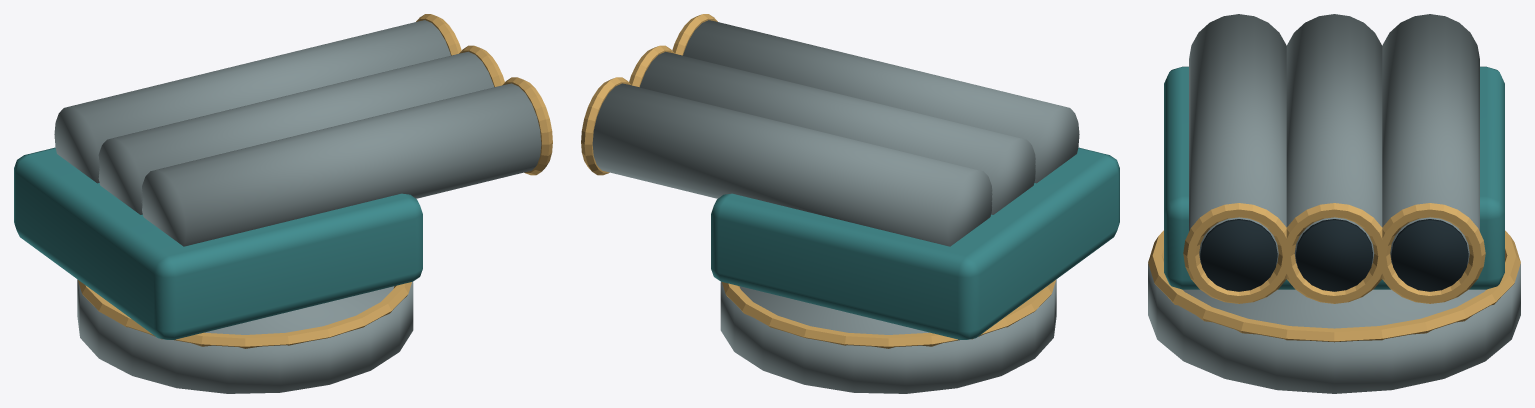
The model's file is module-torpedo.glb.
The picture shows the model from 3 angles, left to right: view 1: azimuth 30°, elevation 25°; view 2: azimuth 150°, elevation 25°; view 3: azimuth 270°, elevation 25°; orthographic projection. The views are drawn at different scales.
Parts seen in each view (by area): view 1: module-torpedo / Iron | weathered steel, module-torpedo / Paint | North Sea petrol, module-torpedo / Brass | machined champagne; view 2: module-torpedo / Iron | weathered steel, module-torpedo / Paint | North Sea petrol, module-torpedo / Brass | machined champagne; view 3: module-torpedo / Iron | weathered steel, module-torpedo / Brass | machined champagne, module-torpedo / Rubber | dark insets, module-torpedo / Paint | North Sea petrol.
Boxes of the visible parts, x1,y1,x2,y2 form: module-torpedo / Iron | weathered steel: (54, 20, 541, 393); module-torpedo / Paint | North Sea petrol: (14, 147, 422, 339); module-torpedo / Brass | machined champagne: (78, 14, 552, 348); module-torpedo / Iron | weathered steel: (592, 20, 1079, 393); module-torpedo / Paint | North Sea petrol: (711, 147, 1119, 339); module-torpedo / Brass | machined champagne: (581, 14, 1055, 348); module-torpedo / Iron | weathered steel: (1148, 14, 1520, 393); module-torpedo / Brass | machined champagne: (1148, 203, 1520, 342); module-torpedo / Rubber | dark insets: (1200, 219, 1468, 291); module-torpedo / Paint | North Sea petrol: (1164, 66, 1504, 289).
Size of the model in its own units: 2.26 by 1.16 by 1.64.
